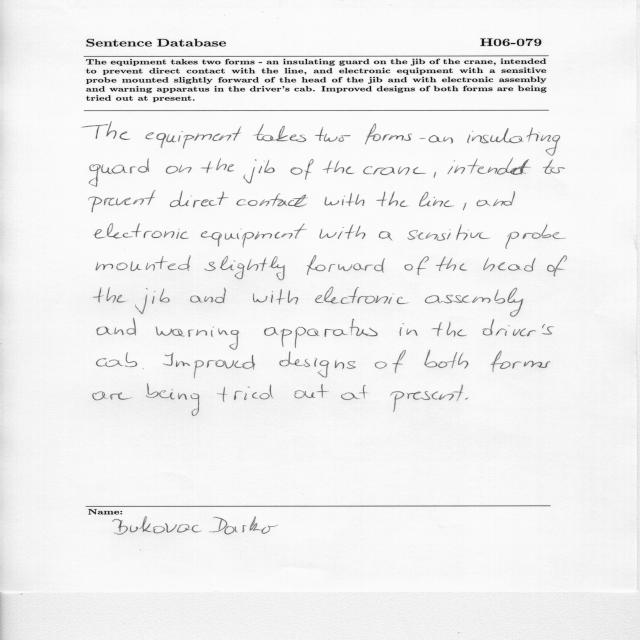word: (264, 319, 378, 348), (425, 288, 523, 317), (467, 128, 560, 156), (201, 224, 307, 248), (163, 353, 255, 379), (146, 127, 242, 149), (93, 287, 170, 314), (279, 352, 356, 378), (156, 326, 239, 350), (391, 385, 464, 412), (204, 256, 285, 280), (89, 158, 149, 187), (146, 384, 199, 416), (315, 287, 409, 304), (307, 255, 385, 275), (505, 224, 566, 249), (96, 255, 191, 271), (94, 223, 188, 239), (89, 190, 155, 212), (448, 158, 531, 175), (408, 224, 490, 241), (491, 351, 551, 373), (482, 319, 554, 336), (237, 193, 309, 207), (170, 191, 229, 208), (365, 124, 412, 145), (217, 385, 274, 402), (253, 124, 306, 142), (82, 122, 130, 140), (425, 350, 469, 369), (244, 160, 275, 184), (253, 289, 298, 305), (375, 350, 406, 373), (97, 318, 136, 336), (320, 224, 366, 239), (97, 352, 137, 367), (483, 257, 522, 272), (190, 288, 226, 304), (477, 191, 515, 206), (363, 166, 426, 175), (432, 321, 467, 337), (324, 193, 365, 206), (315, 127, 350, 142), (419, 192, 454, 207), (377, 191, 409, 207), (201, 158, 234, 173), (294, 384, 329, 398), (291, 159, 314, 180), (404, 257, 429, 276), (436, 256, 467, 271), (323, 160, 354, 174), (547, 256, 567, 277), (341, 385, 369, 400), (93, 392, 133, 401), (543, 159, 565, 174), (399, 323, 418, 336), (166, 165, 192, 174), (429, 135, 453, 144), (524, 258, 536, 271), (379, 231, 393, 241), (463, 203, 466, 211), (434, 172, 436, 178), (420, 138, 426, 139), (466, 398, 469, 400), (143, 369, 144, 369)
